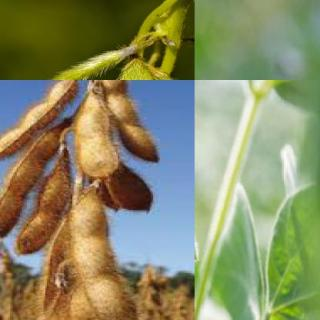soya: (67, 193, 130, 315), (0, 124, 62, 237), (0, 80, 79, 162), (102, 80, 162, 162), (18, 167, 71, 255), (76, 95, 120, 178), (41, 44, 132, 79)
